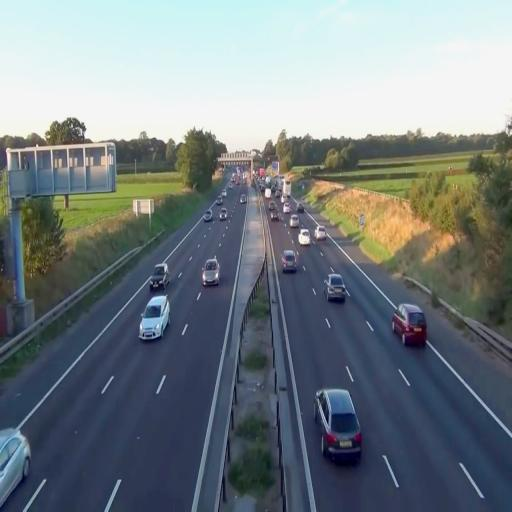vehicle: (314, 387, 362, 463), (314, 389, 361, 461), (0, 426, 32, 508), (0, 429, 29, 506), (392, 302, 427, 348), (391, 304, 426, 347), (138, 295, 170, 342), (138, 296, 168, 339), (324, 270, 348, 303), (323, 274, 345, 302), (202, 257, 220, 286), (149, 264, 169, 289), (150, 263, 169, 289), (296, 216, 310, 246), (202, 259, 218, 285), (282, 249, 298, 273), (281, 250, 295, 272), (298, 228, 311, 248), (269, 202, 280, 221), (314, 226, 326, 243), (216, 206, 228, 221), (314, 226, 325, 241), (290, 214, 300, 228), (220, 208, 229, 222), (281, 180, 289, 195), (204, 210, 213, 222), (277, 175, 283, 190), (203, 210, 211, 221), (219, 208, 226, 220), (264, 188, 272, 198), (296, 203, 304, 213), (283, 203, 290, 214), (268, 201, 275, 211), (270, 211, 277, 221), (264, 176, 270, 187), (280, 195, 287, 204), (216, 196, 222, 205), (270, 185, 276, 193), (240, 195, 245, 203), (259, 184, 264, 191), (275, 190, 280, 197), (220, 190, 225, 197), (230, 175, 234, 182), (228, 183, 232, 189), (235, 179, 239, 185)
